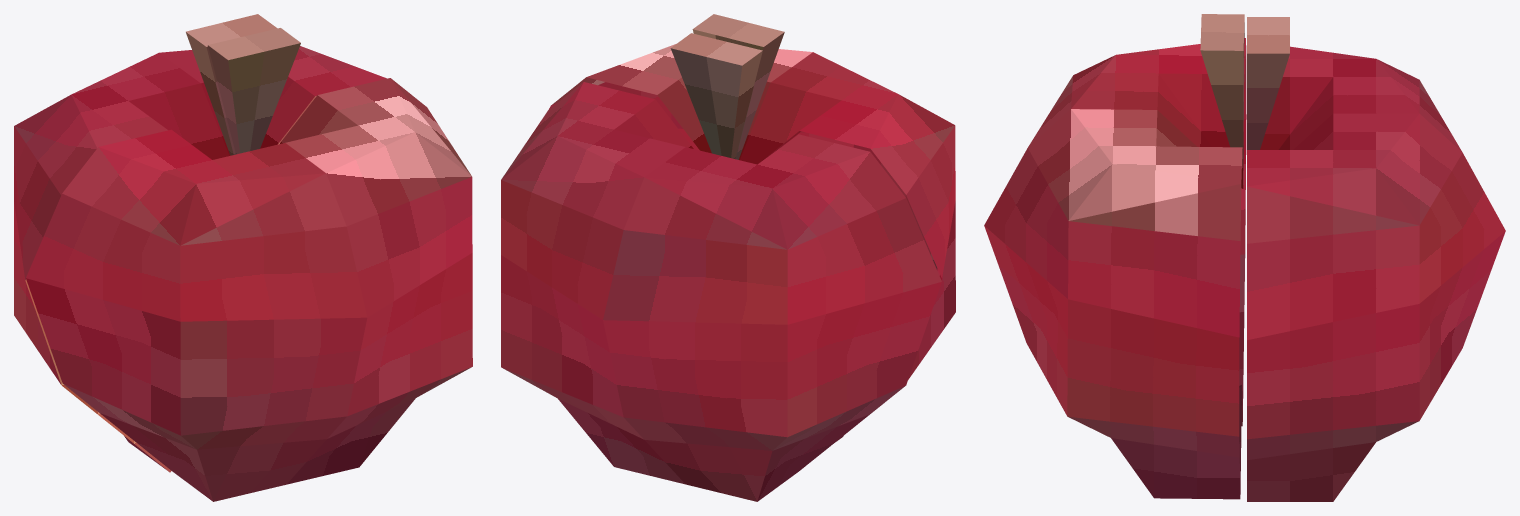
File: appleSplit.glb
3 views of the same model, side by side, from view 1: azimuth 30°, elevation 25°; view 2: azimuth 150°, elevation 25°; view 3: azimuth 270°, elevation 25° (orthographic). The views are drawn at different scales.
Visible parts, largest first — view 1: appleSplitFront, appleSplitBack; view 2: appleSplitBack, appleSplitFront; view 3: appleSplitFront, appleSplitBack.
Part boxes in pixels (x1=…): appleSplitFront: x1=26, y1=28, x2=472, y2=501; appleSplitBack: x1=14, y1=14, x2=386, y2=472; appleSplitBack: x1=501, y1=33, x2=941, y2=501; appleSplitFront: x1=548, y1=14, x2=955, y2=441; appleSplitFront: x1=984, y1=14, x2=1246, y2=499; appleSplitBack: x1=1247, y1=17, x2=1505, y2=501.
Bounding box in the file's own units: 1.2 × 1.11 × 1.21.
1 material, 1 textured.
